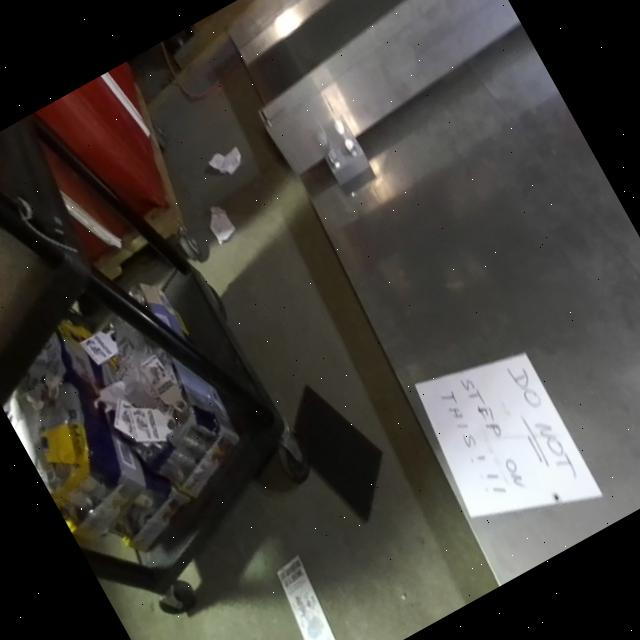blocks: (303, 104, 387, 202)
